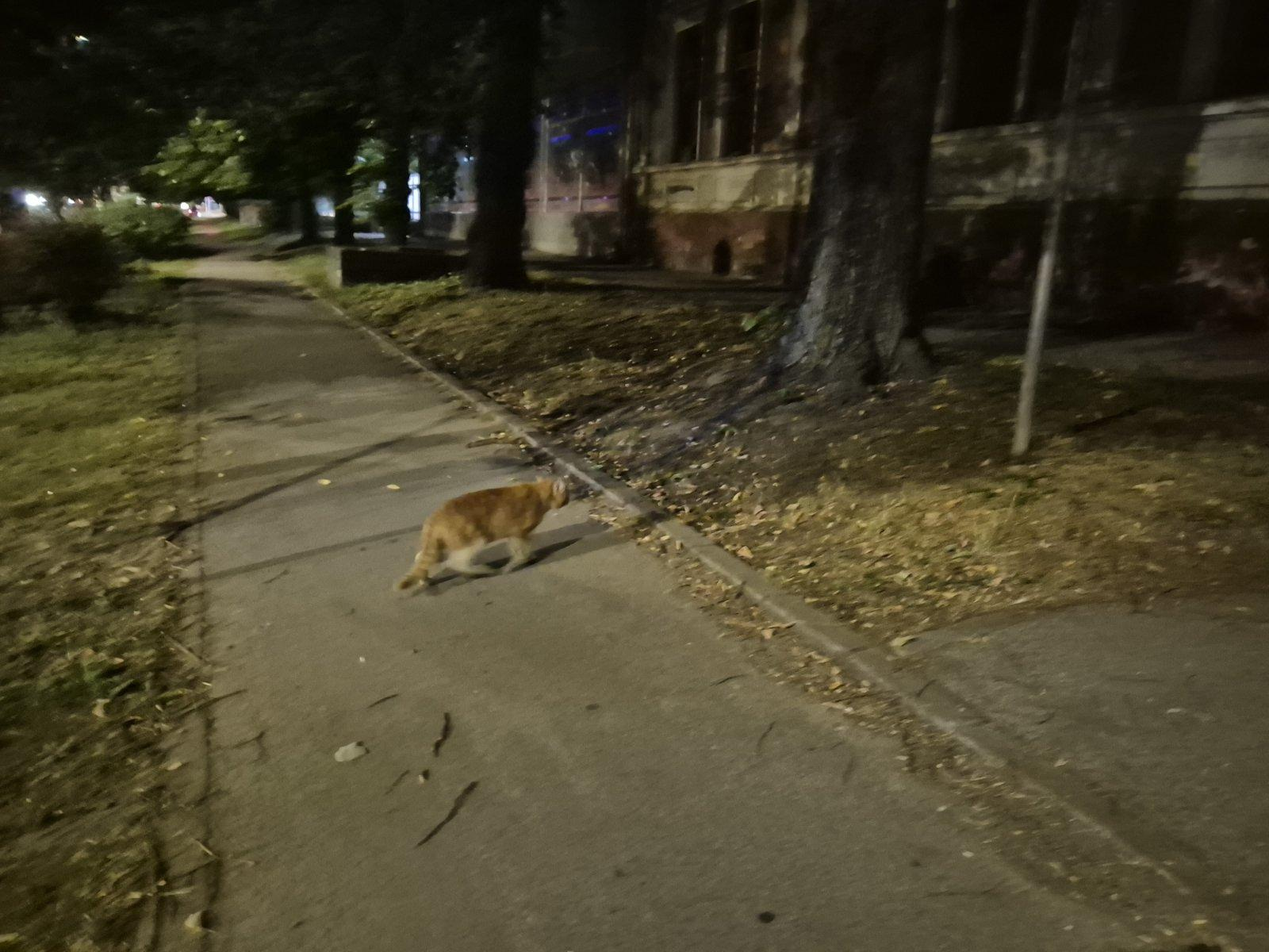macka: (393, 474, 569, 590)
